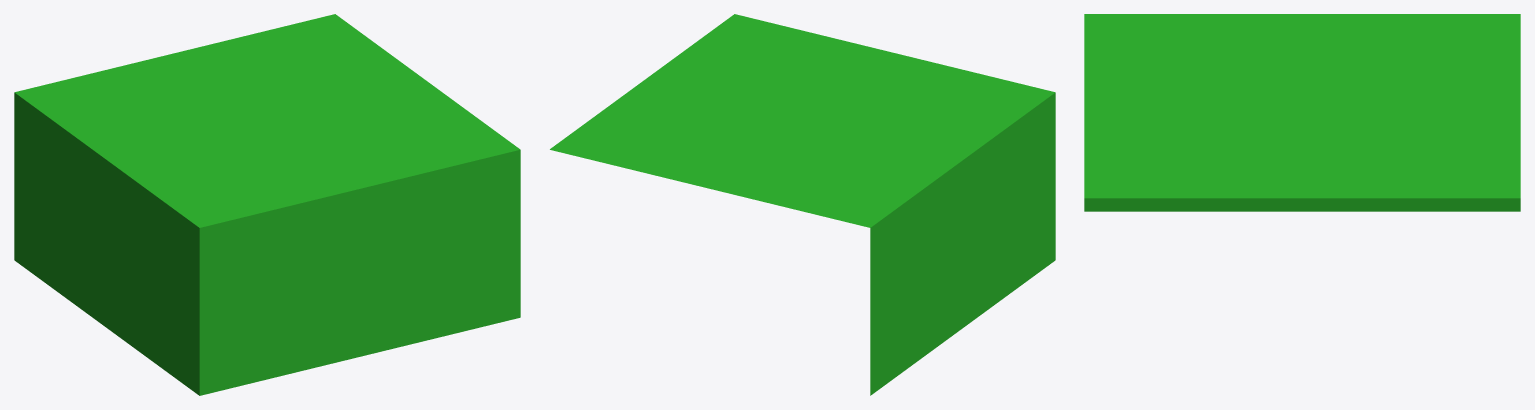
Rendered from grass16.glb.
3 views of the same model, side by side, from view 1: azimuth 30°, elevation 25°; view 2: azimuth 150°, elevation 25°; view 3: azimuth 270°, elevation 25° (orthographic). The views are drawn at different scales.
Parts seen in each view (by area): view 1: Cube.034; view 2: Cube.034; view 3: Cube.034.
Part boxes in pixels (x1,y1,x2,y2): Cube.034: [14, 14, 520, 395]; Cube.034: [550, 14, 1055, 395]; Cube.034: [1084, 14, 1520, 211].
Size of the model in its own units: 4 by 2 by 4.
